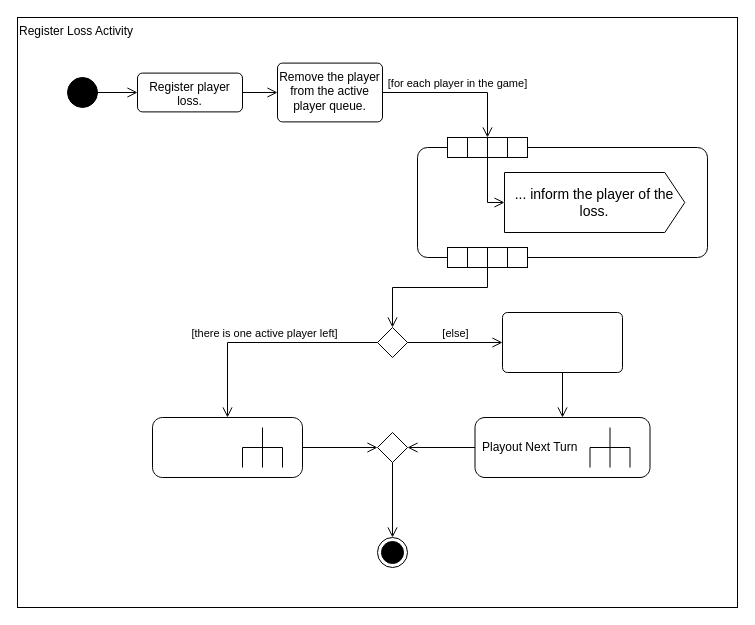
Image size: 755x625. Some labels were removed from this diagram. Here are the shapes that lost their labels. From the top down, the box of each, then its label:
(502, 312, 622, 372): Iterate the current player status to the next player.
(152, 416, 302, 478): Resolve Game
